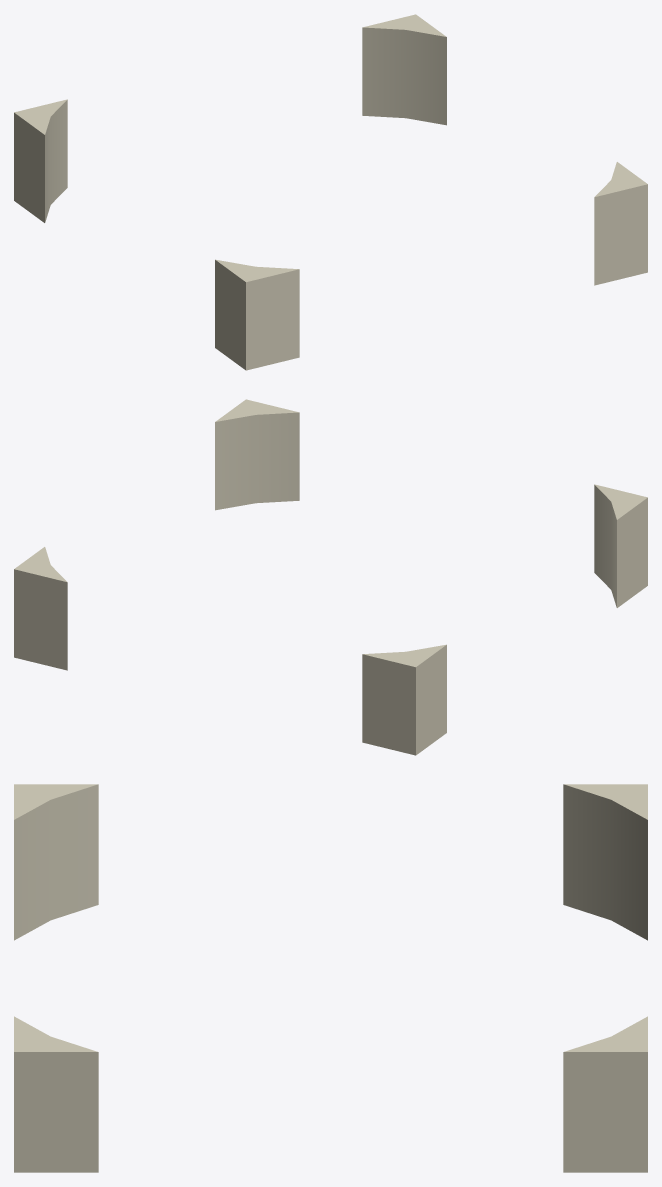
Rendered from roadTile_132.obj.
3 renders of one model, top to bottom at view 1: azimuth 30°, elevation 25°; view 2: azimuth 150°, elevation 25°; view 3: azimuth 270°, elevation 25°, orthographic. The views are drawn at different scales.
Parts seen in each view (by area): view 1: roadTile_132; view 2: roadTile_132; view 3: roadTile_132.
Part boxes in pixels (<box>): roadTile_132: <box>14,14,647,370</box>; roadTile_132: <box>14,399,647,755</box>; roadTile_132: <box>14,784,647,1172</box>.
Size of the model in its own units: 3 by 0.63 by 3.
